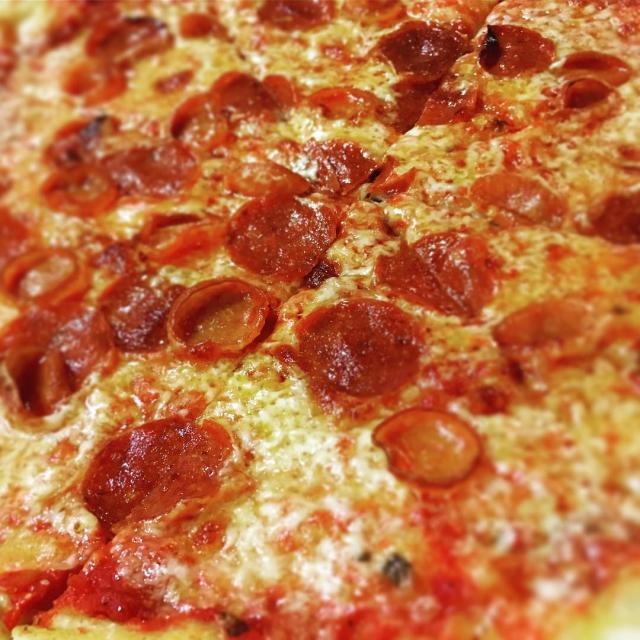pepperoni: (76, 415, 244, 531), (42, 115, 202, 218), (92, 269, 270, 358), (1, 303, 131, 420), (290, 298, 426, 407), (367, 228, 508, 321), (167, 70, 304, 153), (220, 190, 342, 280), (366, 404, 483, 490), (94, 207, 225, 276), (282, 136, 417, 200), (468, 162, 573, 230), (417, 74, 525, 140), (547, 42, 630, 123), (0, 240, 91, 310), (492, 296, 592, 354), (254, 0, 412, 35), (474, 18, 559, 82), (379, 22, 470, 80), (83, 12, 177, 66), (35, 2, 120, 56), (61, 51, 133, 108), (583, 184, 640, 247), (368, 68, 430, 125), (305, 81, 382, 125), (0, 200, 41, 268), (175, 7, 238, 45), (0, 18, 26, 87), (151, 64, 196, 95)
pizza: (0, 0, 639, 639)
